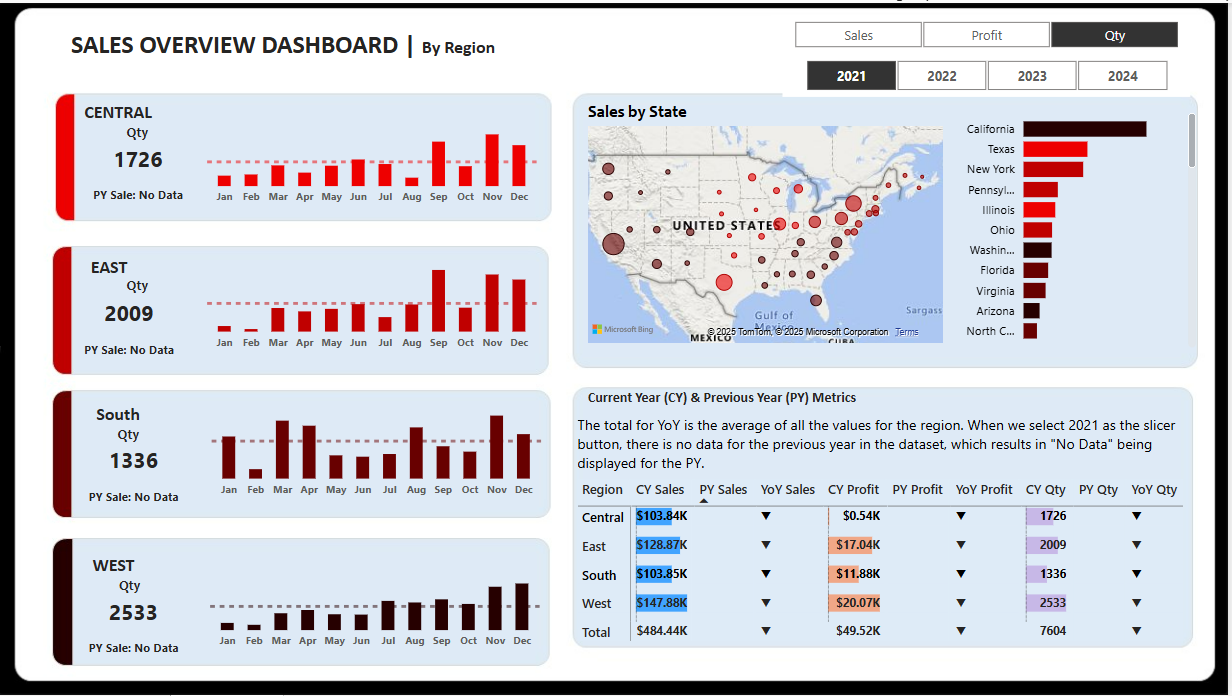

This screenshot's page, from the dashboard's own definition file:
{"tool":"powerbi","page":{"name":"Page 1","canvas":[1280,720],"ordinal":0},"visuals":[{"type":"slicer","fields":{"Values":["Select Metric.Select Metric"]},"box":[804.3,12.5,448.2,40.6],"z":0},{"type":"card","fields":{"Values":["Sales Data.Total Sales"]},"box":[68.7,140.6,156.2,45.3],"z":1000},{"type":"textbox","box":[79.7,96.8,90.6,43.7],"z":2000},{"type":"slicer","fields":{"Values":["Calendar Table.Year"]},"box":[817,52.5,424.4,44.5],"z":3000},{"type":"card","fields":{"Values":["Sales Data.Dynamic Title"]},"box":[79.7,118.7,132.8,35.9],"z":4000},{"type":"card","fields":{"Values":["Sales Data.PY KPI Sales"]},"box":[79.7,185.9,132.8,32.8],"z":5000},{"type":"clusteredColumnChart","fields":{"Y":["Sales Data.Total Sales"],"Category":["Calendar Table.Month"]},"box":[212.4,106.2,354.5,112.5],"z":6000},{"type":"textbox","box":[32.8,21.9,534.1,48.4],"z":7000},{"type":"card","fields":{"Values":["Sales Data.Total Sales"]},"box":[60,301.5,156.2,45.3],"z":8000},{"type":"textbox","box":[70.9,257.8,90.6,43.7],"z":9000},{"type":"card","fields":{"Values":["Sales Data.PY KPI Sales"]},"box":[70.9,346.8,132.8,32.8],"z":10000},{"type":"clusteredColumnChart","fields":{"Y":["Sales Data.Total Sales"],"Category":["Calendar Table.Month"]},"box":[212.4,257.7,354.5,112.5],"z":11000},{"type":"card","fields":{"Values":["Sales Data.Total Sales"]},"box":[64.8,455.2,156.2,45.3],"z":12000},{"type":"textbox","box":[79.7,410.8,90.6,43.7],"z":13000},{"type":"card","fields":{"Values":["Sales Data.PY KPI Sales"]},"box":[75.7,500.5,132.8,32.8],"z":14000},{"type":"clusteredColumnChart","fields":{"Y":["Sales Data.Total Sales"],"Category":["Calendar Table.Month"]},"box":[217.2,411.4,354.5,112.5],"z":15000},{"type":"card","fields":{"Values":["Sales Data.Total Sales"]},"box":[63.7,612.5,156.2,45.3],"z":16000},{"type":"textbox","box":[74.7,568.7,90.6,43.7],"z":17000},{"type":"card","fields":{"Values":["Sales Data.PY KPI Sales"]},"box":[74.7,657.7,132.8,32.8],"z":18000},{"type":"clusteredColumnChart","fields":{"Y":["Sales Data.Total Sales"],"Category":["Calendar Table.Month"]},"box":[216.2,568.6,354.5,112.5],"z":19000},{"type":"card","fields":{"Values":["Sales Data.Dynamic Title"]},"box":[79.7,278,132.8,35.9],"z":20000},{"type":"card","fields":{"Values":["Sales Data.Dynamic Title"]},"box":[70.3,432.6,132.8,35.9],"z":21000},{"type":"card","fields":{"Values":["Sales Data.Dynamic Title"]},"box":[71.8,589.6,132.3,35.9],"z":22000},{"type":"map","title":"Sales by State","fields":{"Size":["Sales Data.Total Sales"],"Category":["Sales Data.State/Province"],"Series":["Sales Data.Region"]},"box":[609.1,101.5,379.5,257.7],"z":23000},{"type":"barChart","fields":{"Y":["Sales Data.Total Sales"],"Category":["Sales Data.State/Province"],"Series":["Sales Data.Region"]},"box":[988.6,101.5,263.9,262.4],"z":24000},{"type":"pivotTable","fields":{"Rows":["Sales Data.Region"],"Values":["Sales Data.CY Sales","Sales Data.PY Sales","Sales Data.YoY Sales","Sales Data.CY Profit","Sales Data.PY Profit","Sales Data.YoY Profit","Sales Data.CY Qty","Sales Data.PY Qty","Sales Data.YoY Qty"]},"box":[598.2,490.4,643.5,190.5],"z":25000},{"type":"textbox","box":[609.1,395.1,299.9,37.5],"z":25001},{"type":"textbox","box":[598.2,423.3,654.4,76.5],"z":25002}]}

Visuals, with their boxes in screenshot pixels (x1, y1, x2, y2), scaled from the page's 1280x720 canvas onto the 1232x696 screenshot:
slicer - Select Metric.Select Metric: bbox(774, 12, 1206, 51)
card - Sales Data.Total Sales: bbox(66, 136, 216, 180)
textbox: bbox(77, 94, 164, 136)
slicer - Calendar Table.Year: bbox(786, 51, 1195, 94)
card - Sales Data.Dynamic Title: bbox(77, 115, 205, 149)
card - Sales Data.PY KPI Sales: bbox(77, 180, 205, 211)
clusteredColumnChart - Sales Data.Total Sales x Calendar Table.Month: bbox(204, 103, 546, 211)
textbox: bbox(32, 21, 546, 68)
card - Sales Data.Total Sales: bbox(58, 291, 208, 335)
textbox: bbox(68, 249, 155, 291)
card - Sales Data.PY KPI Sales: bbox(68, 335, 196, 367)
clusteredColumnChart - Sales Data.Total Sales x Calendar Table.Month: bbox(204, 249, 546, 358)
card - Sales Data.Total Sales: bbox(62, 440, 213, 484)
textbox: bbox(77, 397, 164, 439)
card - Sales Data.PY KPI Sales: bbox(73, 484, 201, 516)
clusteredColumnChart - Sales Data.Total Sales x Calendar Table.Month: bbox(209, 398, 550, 506)
card - Sales Data.Total Sales: bbox(61, 592, 212, 636)
textbox: bbox(72, 550, 159, 592)
card - Sales Data.PY KPI Sales: bbox(72, 636, 200, 667)
clusteredColumnChart - Sales Data.Total Sales x Calendar Table.Month: bbox(208, 550, 549, 658)
card - Sales Data.Dynamic Title: bbox(77, 269, 205, 303)
card - Sales Data.Dynamic Title: bbox(68, 418, 195, 453)
card - Sales Data.Dynamic Title: bbox(69, 570, 196, 605)
"Sales by State" map: bbox(586, 98, 952, 347)
barChart - Sales Data.Total Sales x Sales Data.State/Province: bbox(952, 98, 1206, 352)
pivotTable - Sales Data.Region x Sales Data.CY Sales: bbox(576, 474, 1195, 658)
textbox: bbox(586, 382, 875, 418)
textbox: bbox(576, 409, 1206, 483)
